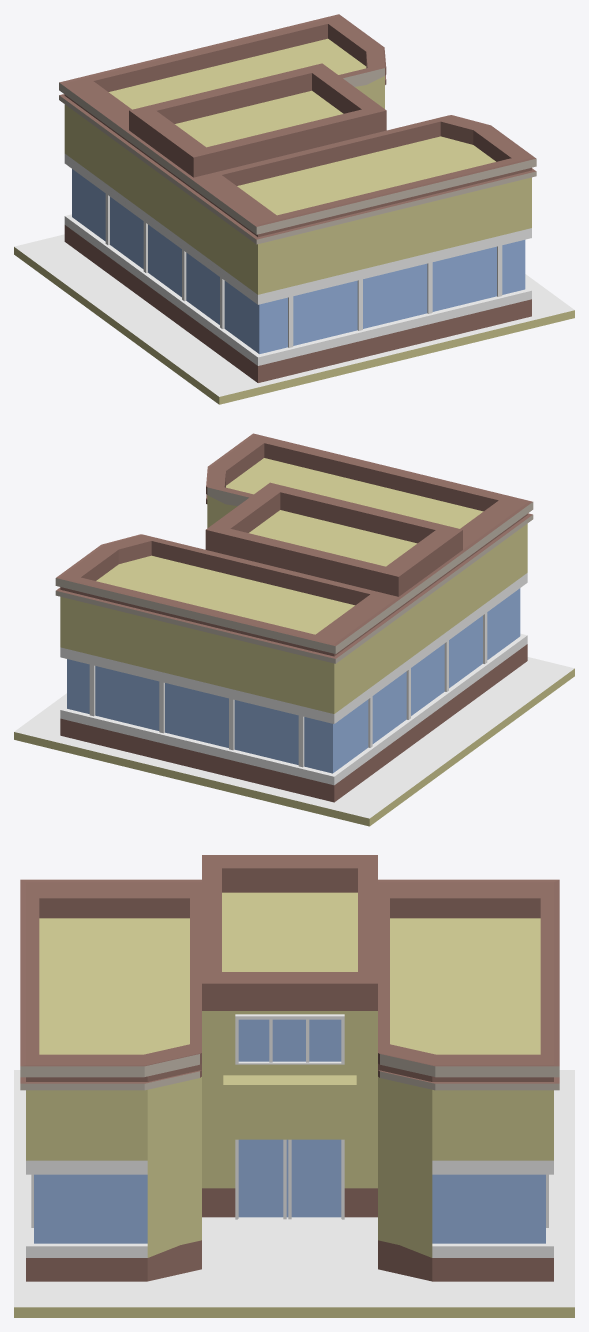
Rendered from Bank_01.fbx.
3 renders of one model, top to bottom at view 1: azimuth 30°, elevation 25°; view 2: azimuth 150°, elevation 25°; view 3: azimuth 270°, elevation 25°, orthographic. The views are drawn at different scales.
Visible parts, largest first — view 1: Bank_01; view 2: Bank_01; view 3: Bank_01.
Boxes of the visible parts, <box> form: Bank_01: <box>14,14,574,404</box>; Bank_01: <box>14,433,574,826</box>; Bank_01: <box>14,855,574,1317</box>.
Size of the model in its own units: 2400 by 1202 by 2400.
